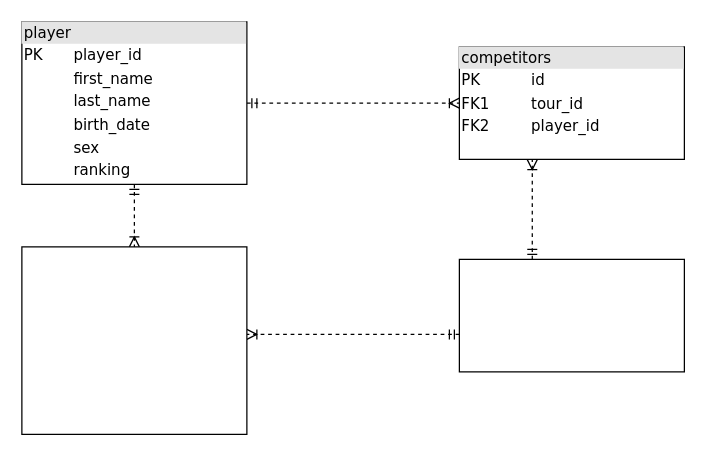
Image size: 706x456. Some labels were removed from this diagram. Here are the shapes that lost their labels. From the top down, the centre of each, then its label:
pixel 571 315: tournament PK tour_id name venue date
pixel 134 340: matches PK match_id result round FK1 tour_id FK2 player1_id FK3 player2_id
